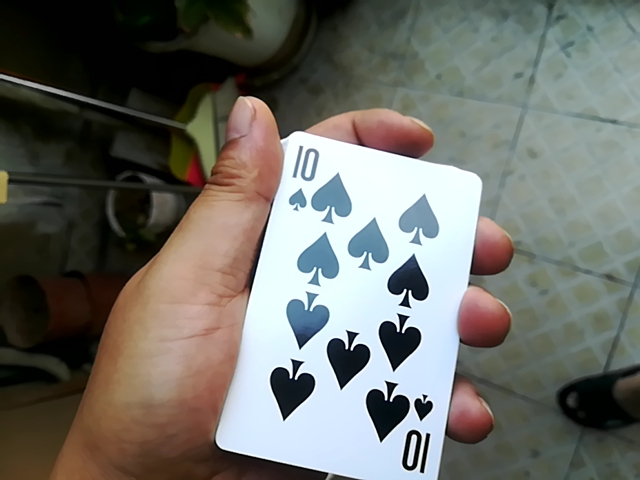ht 10: (203, 118, 454, 472)
